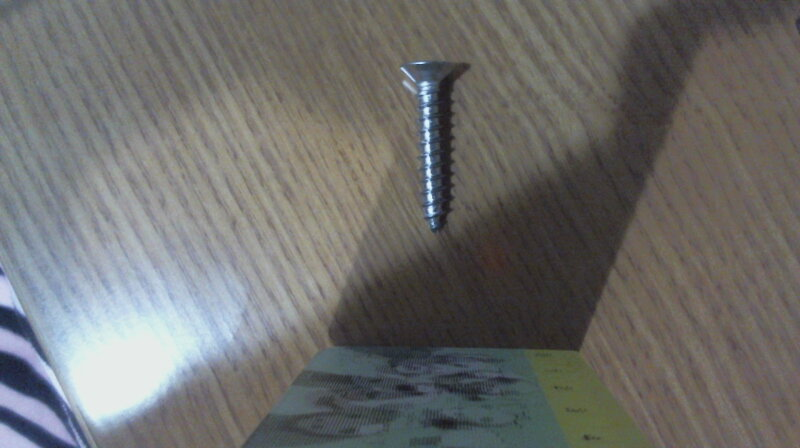S001: (394, 54, 467, 241)
